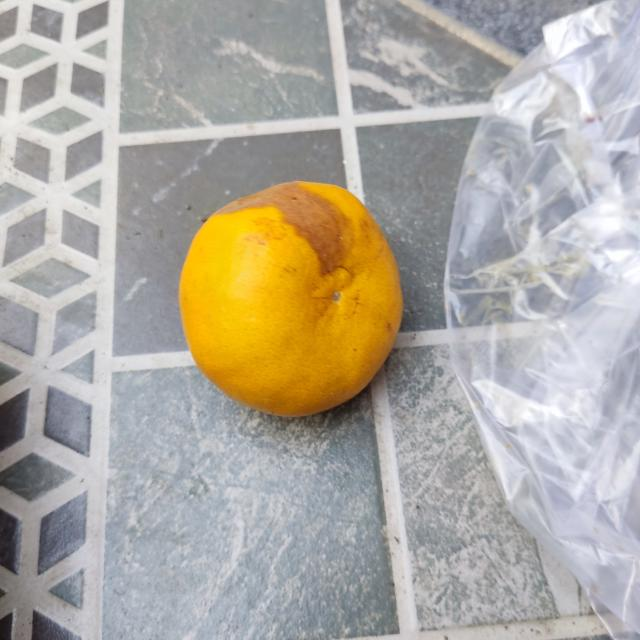orange: (177, 176, 407, 423)
